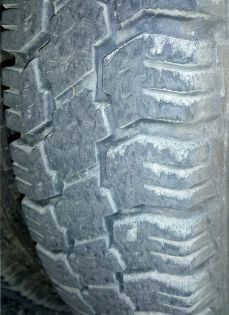bad_condition: (2, 1, 229, 310)
